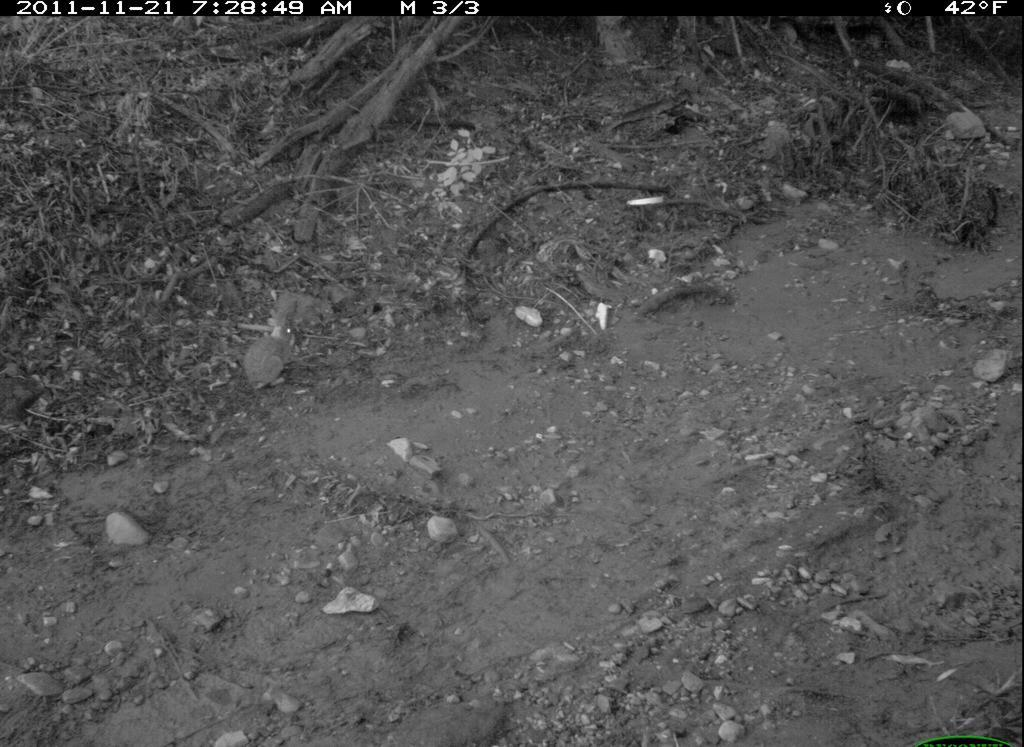rabbit: (242, 292, 317, 406)
